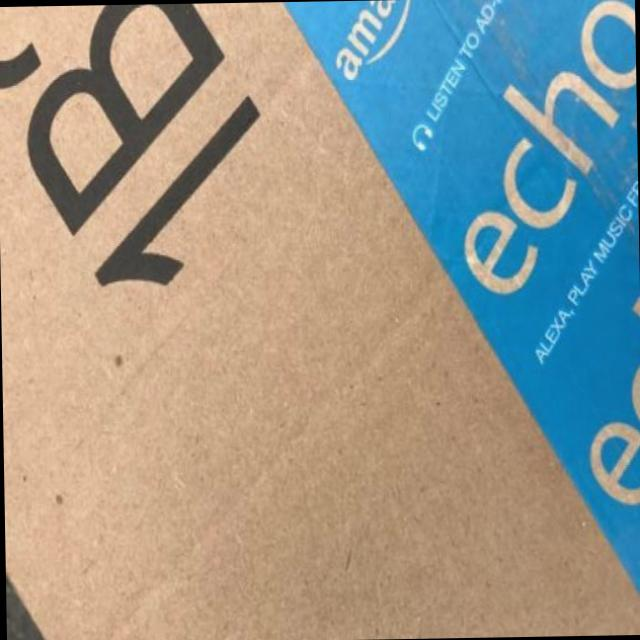cardboard paper: (0, 1, 640, 640)
